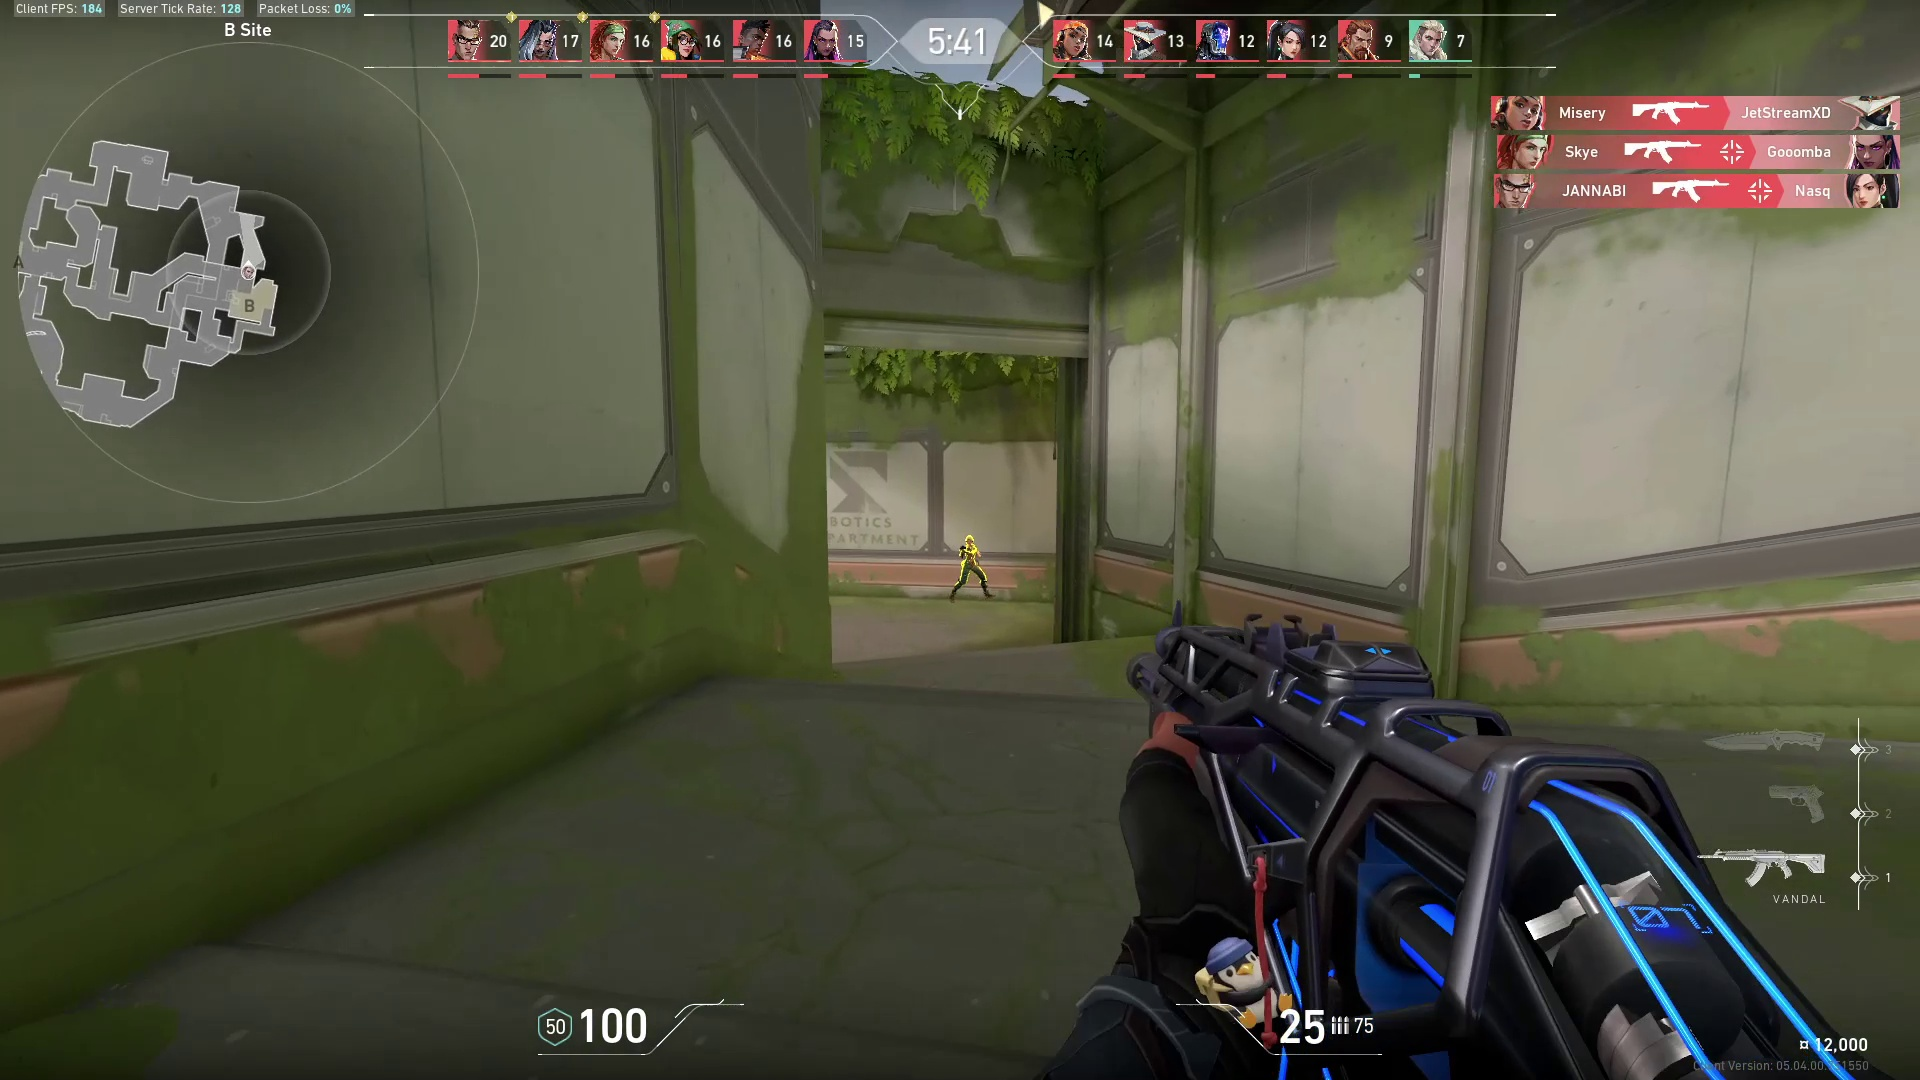enemy_body: (945, 546, 997, 607)
enemy_head: (963, 533, 975, 547)
